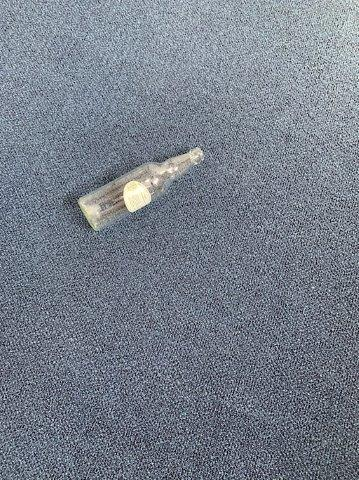botolkaca: (77, 147, 204, 231)
